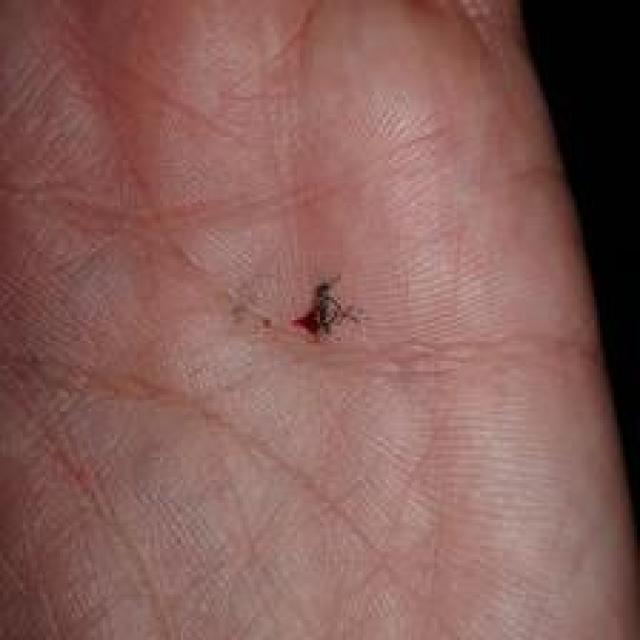Aedes albopictus: (290, 278, 361, 342)
